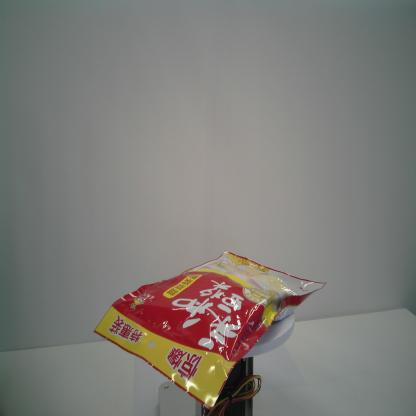Instant Drink: (93, 248, 328, 412)
